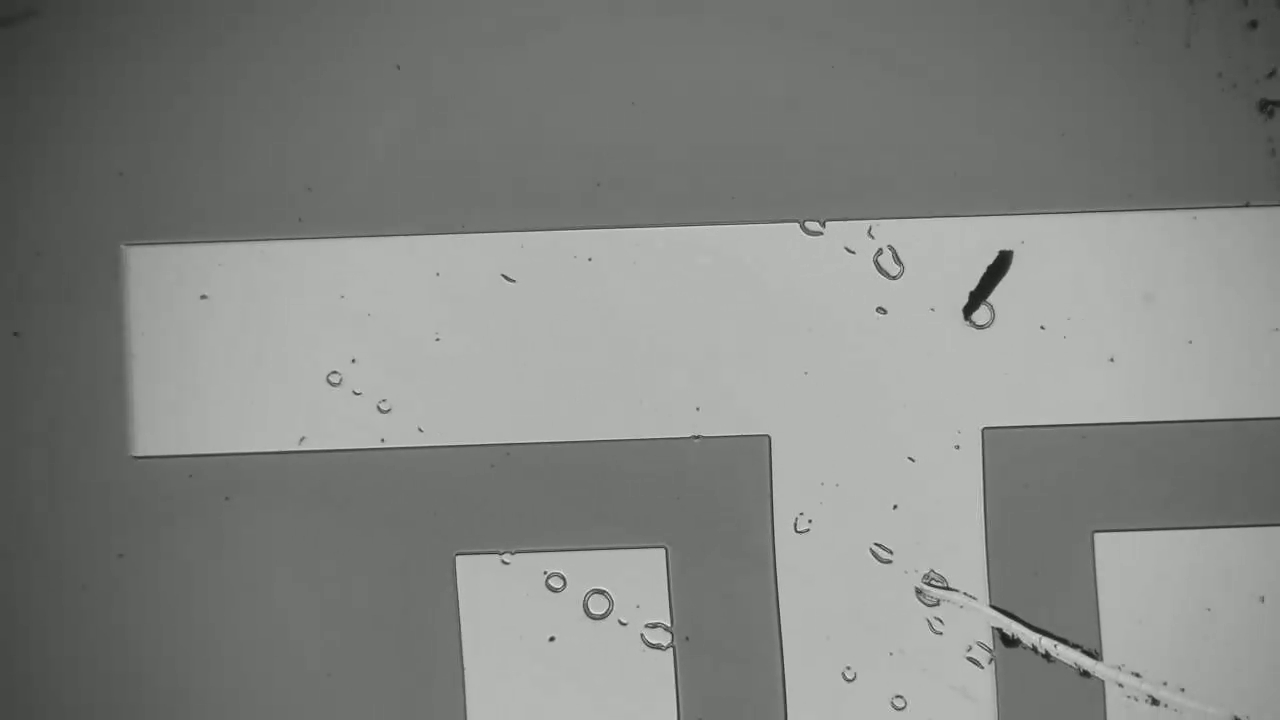Short_circuit: (970, 574, 1137, 708)
